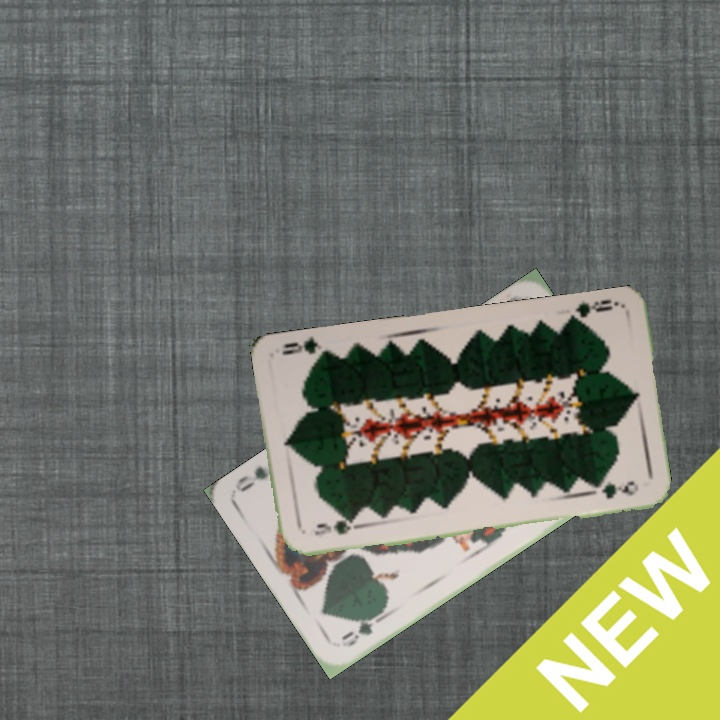G9: (564, 295, 621, 326), (310, 517, 356, 538)
GO: (337, 608, 389, 650)
